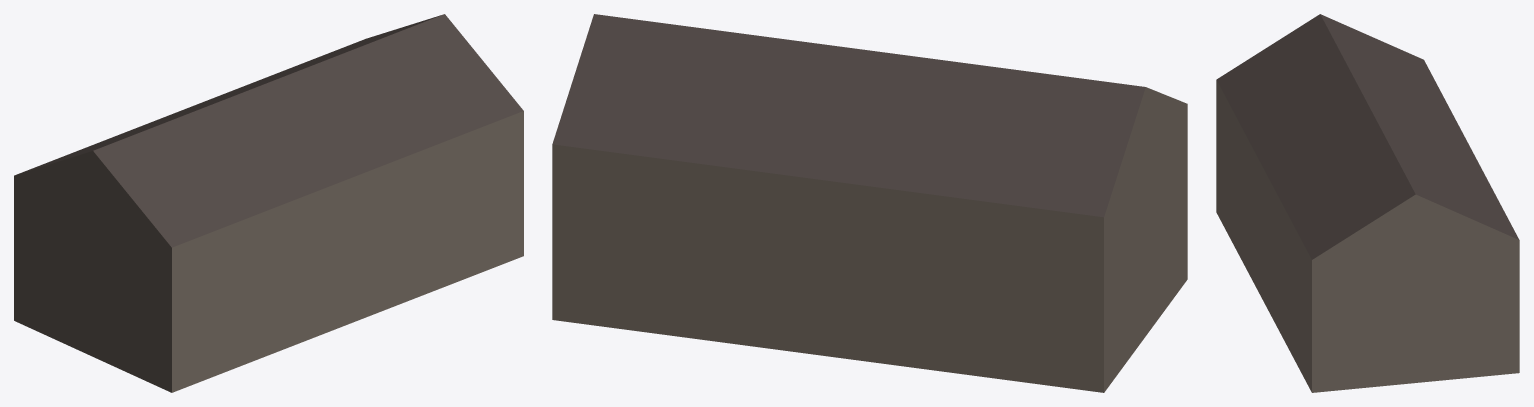
The picture shows the model from 3 angles, left to right: view 1: azimuth 30°, elevation 25°; view 2: azimuth 150°, elevation 25°; view 3: azimuth 270°, elevation 25°; orthographic projection. The views are drawn at different scales.
Parts seen in each view (by area): view 1: HP-w859457517; view 2: HP-w859457517; view 3: HP-w859457517.
Boxes of the visible parts, bbox=[...] form: HP-w859457517: bbox=[14, 14, 523, 392]; HP-w859457517: bbox=[552, 14, 1187, 392]; HP-w859457517: bbox=[1216, 14, 1519, 392].
Bounding box in the file's own units: 29.09 × 12.77 × 18.6.
